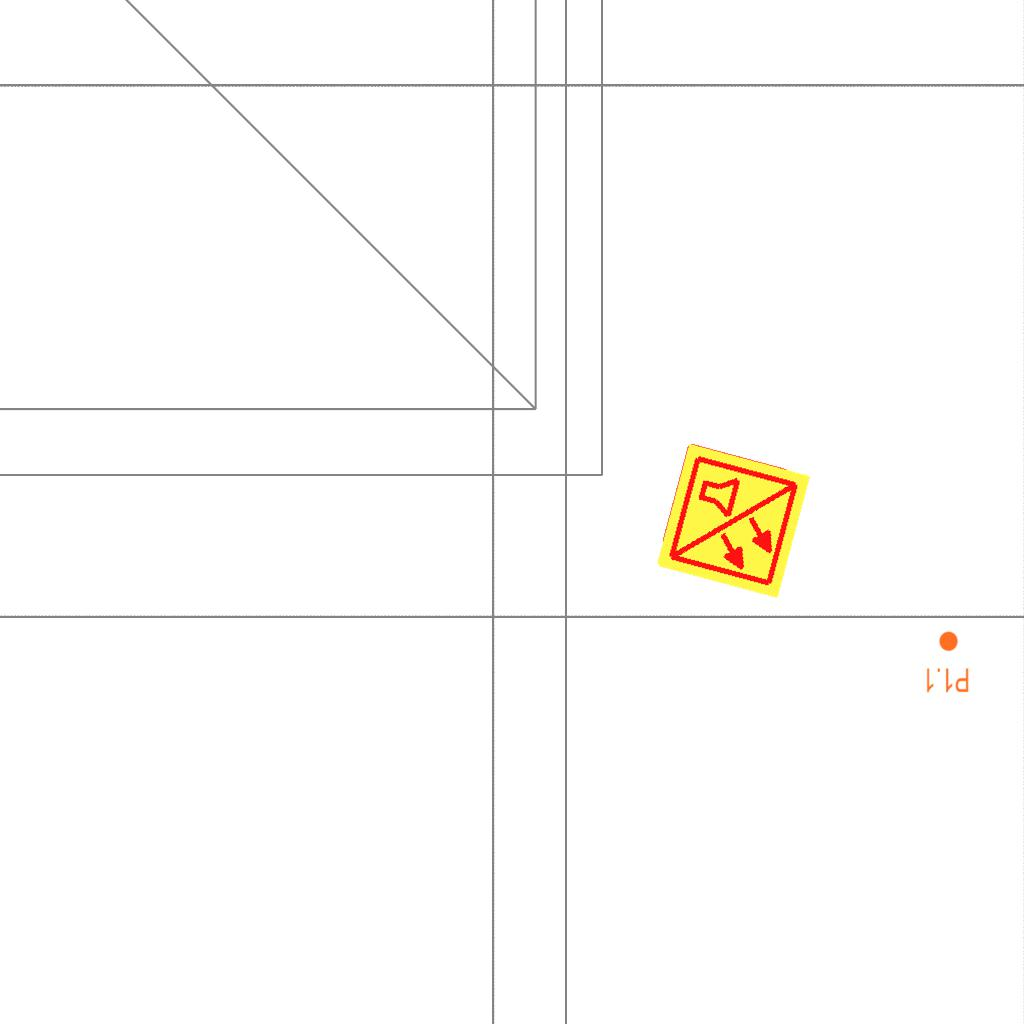Downlight_LED_Einbauleuchten_Flur: (924, 630, 970, 694)
OKW_Multisensormelder_(Kombination_optischer_Rauch-Kahlenmonoxid_Waerme-Melder): (652, 440, 814, 602)
